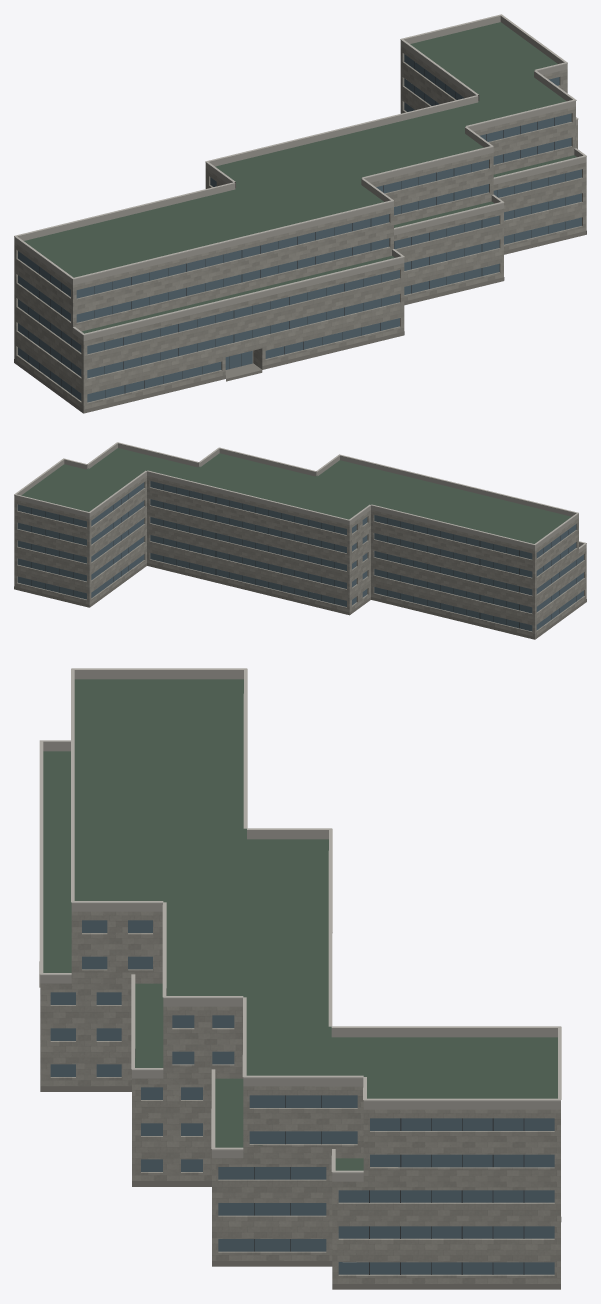
3 views of the same model, one above another, from view 1: azimuth 30°, elevation 25°; view 2: azimuth 150°, elevation 25°; view 3: azimuth 270°, elevation 25° (orthographic). The views are drawn at different scales.
Visible parts, largest first — view 1: sciA__wall, sciA__roof, sciA__glass, sciA__parapet, sciA__trim, sciA__base, sciA__frame; view 2: sciA__wall, sciA__roof, sciA__glass, sciA__parapet, sciA__trim, sciA__base, sciA__frame; view 3: sciA__roof, sciA__wall, sciA__glass, sciA__parapet, sciA__trim, sciA__base.
Boxes of the visible parts, x1=… form: sciA__wall: x1=14, y1=46, x2=586, y2=412; sciA__roof: x1=24, y1=22, x2=576, y2=333; sciA__glass: x1=18, y1=54, x2=581, y2=402; sciA__parapet: x1=14, y1=15, x2=586, y2=341; sciA__trim: x1=14, y1=14, x2=586, y2=335; sciA__base: x1=14, y1=231, x2=586, y2=413; sciA__frame: x1=28, y1=61, x2=565, y2=397; sciA__wall: x1=14, y1=476, x2=586, y2=639; sciA__roof: x1=21, y1=448, x2=571, y2=543; sciA__glass: x1=17, y1=481, x2=583, y2=631; sciA__parapet: x1=14, y1=443, x2=586, y2=553; sciA__trim: x1=14, y1=442, x2=586, y2=549; sciA__base: x1=14, y1=563, x2=586, y2=639; sciA__frame: x1=31, y1=484, x2=576, y2=628; sciA__roof: x1=43, y1=679, x2=557, y2=1170; sciA__wall: x1=40, y1=911, x2=560, y2=1283; sciA__glass: x1=50, y1=920, x2=554, y2=1274; sciA__parapet: x1=40, y1=670, x2=560, y2=1181; sciA__trim: x1=39, y1=668, x2=561, y2=1173; sciA__base: x1=39, y1=961, x2=561, y2=1289.
Size of the model in its own units: 97.86 by 20.4 by 50.
Materials: 8 (1 with a texture image).
